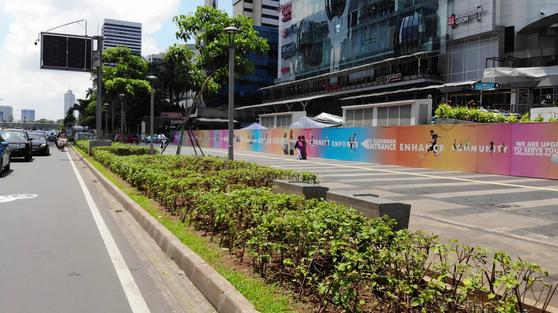bike: (156, 135, 172, 155)
